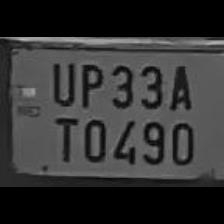0: (78, 112, 108, 162), (166, 116, 196, 164)
3: (104, 58, 136, 110), (135, 60, 164, 108)
4: (109, 112, 137, 164)
9: (139, 116, 165, 164)
A: (166, 59, 195, 113)
P: (74, 58, 104, 110)
T: (48, 112, 78, 162)
U: (45, 56, 76, 106)
